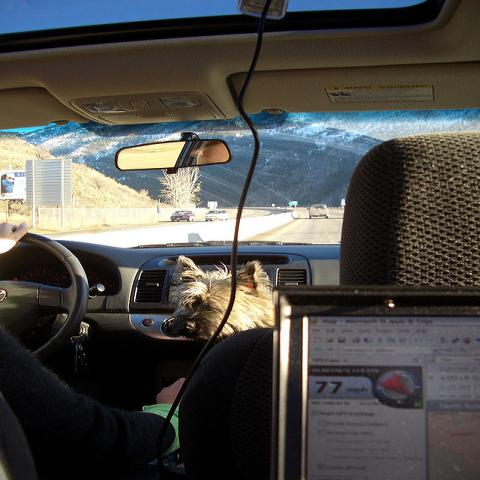car: (308, 204, 330, 220), (204, 210, 228, 222), (170, 210, 196, 221)
